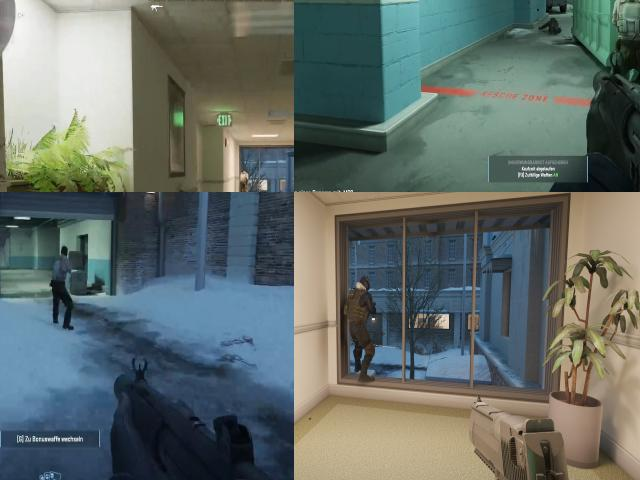CT: (349, 275, 372, 371)
CT-Head: (357, 276, 369, 290)
Dead: (540, 14, 567, 41)
T: (609, 0, 640, 59), (52, 253, 68, 292), (239, 164, 249, 192)
T-Head: (58, 245, 69, 261)
